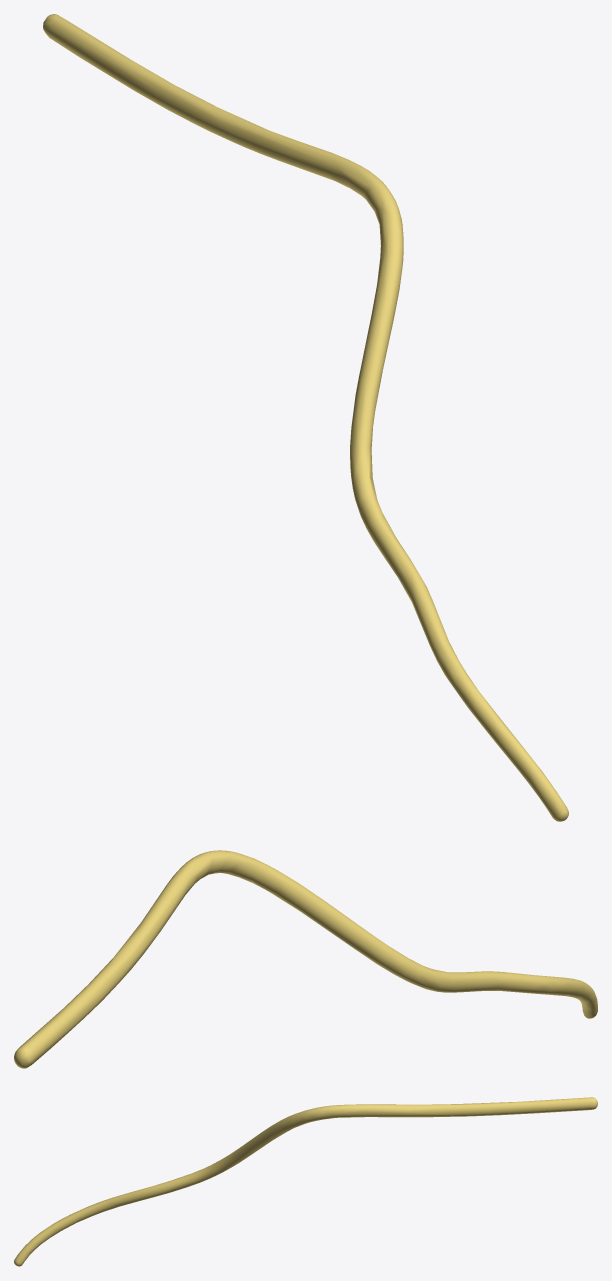
Rendered from Trunk of right maxillary nerve.fbx.
3 renders of one model, top to bottom at view 1: azimuth 30°, elevation 25°; view 2: azimuth 150°, elevation 25°; view 3: azimuth 270°, elevation 25°, orthographic. The views are drawn at different scales.
Visible parts, largest first — view 1: Trunk of right maxillary nerve; view 2: Trunk of right maxillary nerve; view 3: Trunk of right maxillary nerve.
Boxes of the visible parts, <box> form: Trunk of right maxillary nerve: <box>43,14,568,821</box>; Trunk of right maxillary nerve: <box>14,850,597,1068</box>; Trunk of right maxillary nerve: <box>14,1097,597,1266</box>.
Size of the model in its own units: 1.83 by 3.86 by 10.64.
